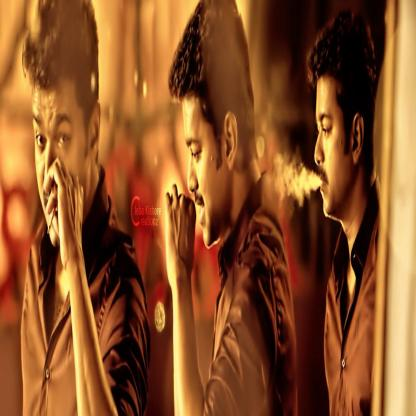smoke: (273, 144, 319, 224)
